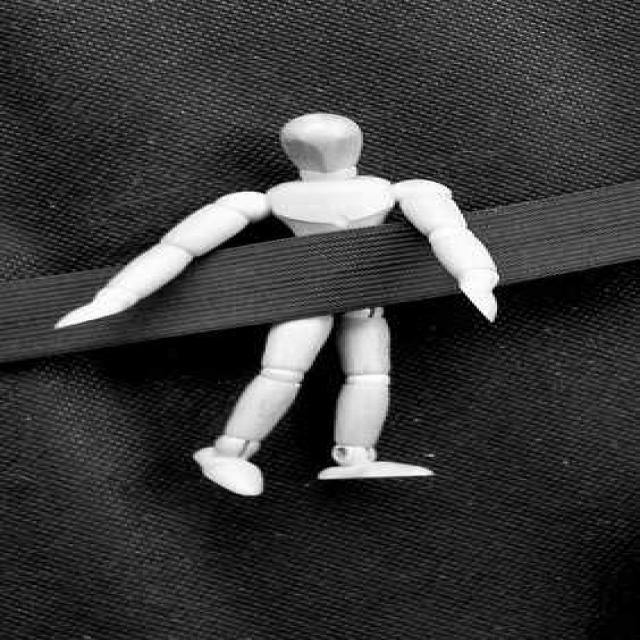seatbelt: (2, 189, 633, 342)
